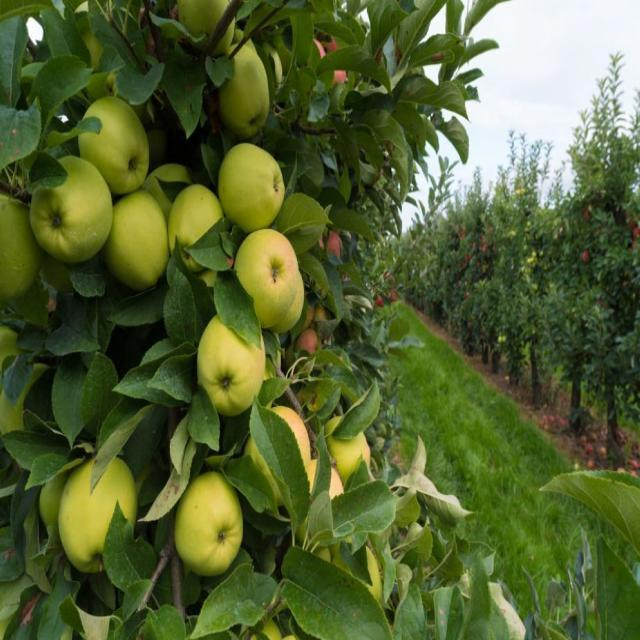Green Apple: (61, 454, 135, 573), (35, 161, 109, 259), (189, 315, 266, 409), (177, 466, 245, 572), (86, 93, 145, 196), (242, 230, 301, 317), (221, 142, 285, 222), (115, 187, 166, 286), (1, 184, 39, 301), (260, 399, 307, 486), (1, 363, 50, 446), (222, 50, 272, 131), (173, 171, 221, 255), (34, 453, 79, 538), (300, 453, 346, 536), (320, 415, 368, 485), (145, 147, 184, 223), (338, 547, 380, 600), (179, 1, 230, 36), (1, 312, 21, 397), (266, 36, 285, 84), (1, 603, 17, 640), (253, 632, 309, 640)
